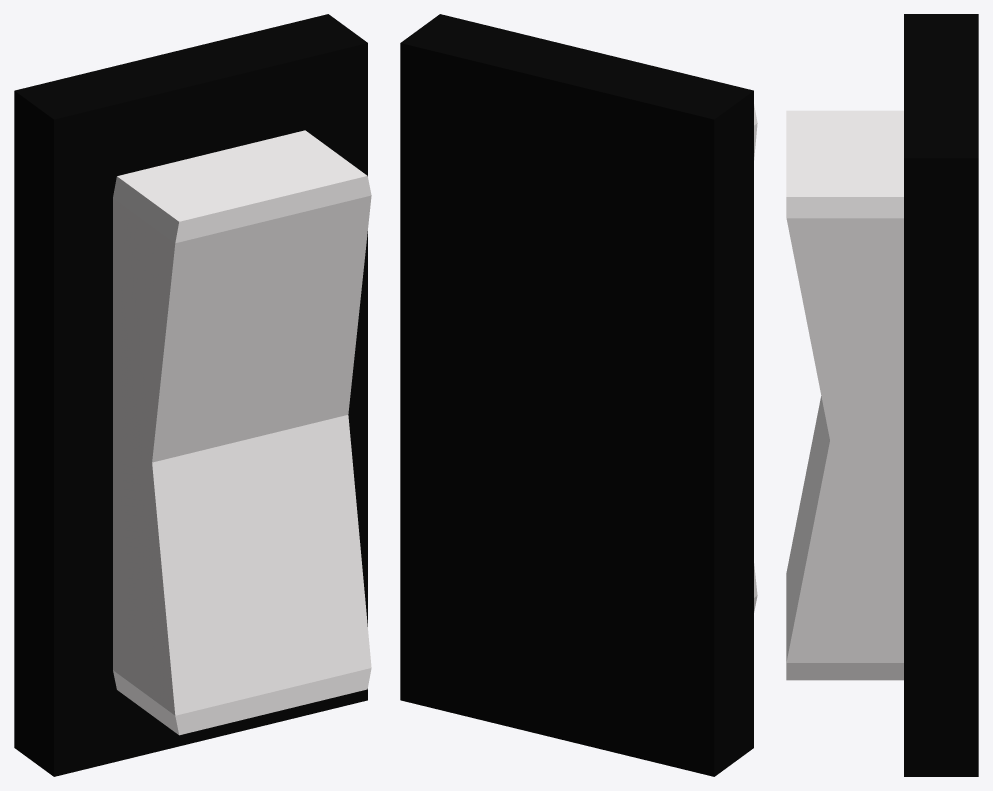
The model's file is M_INT_LightSwitch.fbx.
3 renders of one model, left to right at view 1: azimuth 30°, elevation 25°; view 2: azimuth 150°, elevation 25°; view 3: azimuth 270°, elevation 25°, orthographic. The views are drawn at different scales.
Visible parts, largest first — view 1: Base, SwitchOff, SwitchOn; view 2: Base; view 3: Base, SwitchOff, SwitchOn.
Boxes of the visible parts, x1,y1,x2,y2 form: Base: [14, 14, 367, 776]; SwitchOff: [113, 130, 371, 671]; SwitchOn: [113, 208, 371, 735]; Base: [400, 14, 753, 776]; Base: [904, 14, 978, 776]; SwitchOff: [786, 110, 903, 472]; SwitchOn: [786, 396, 903, 680].
Size of the model in its own units: 18.75 by 37.5 by 10.55.
Materials: 1 (1 with a texture image).
